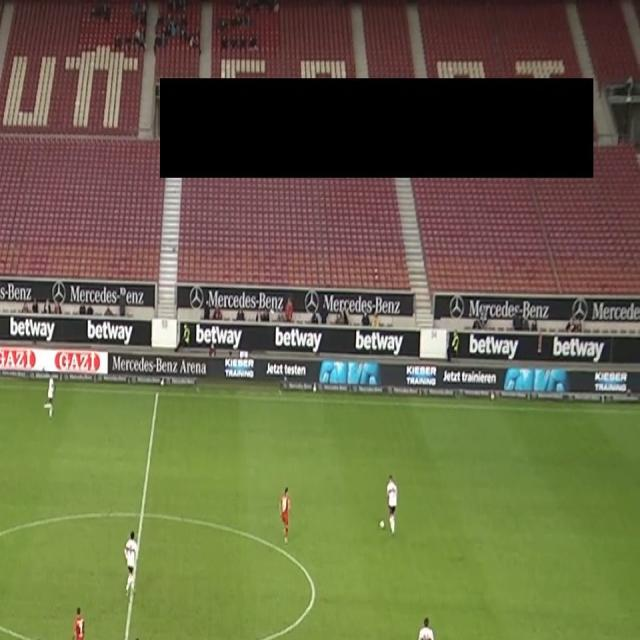ball: (378, 519, 386, 531)
